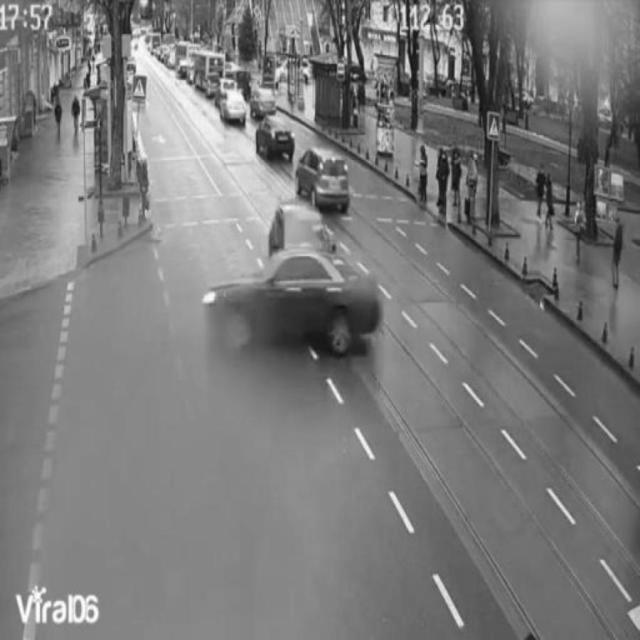accident: (203, 205, 383, 353)
person: (431, 131, 456, 225), (532, 152, 558, 234), (462, 142, 486, 228), (608, 209, 626, 290), (414, 138, 434, 210)
vehicle: (292, 146, 354, 210), (254, 109, 295, 161), (217, 84, 251, 125)
